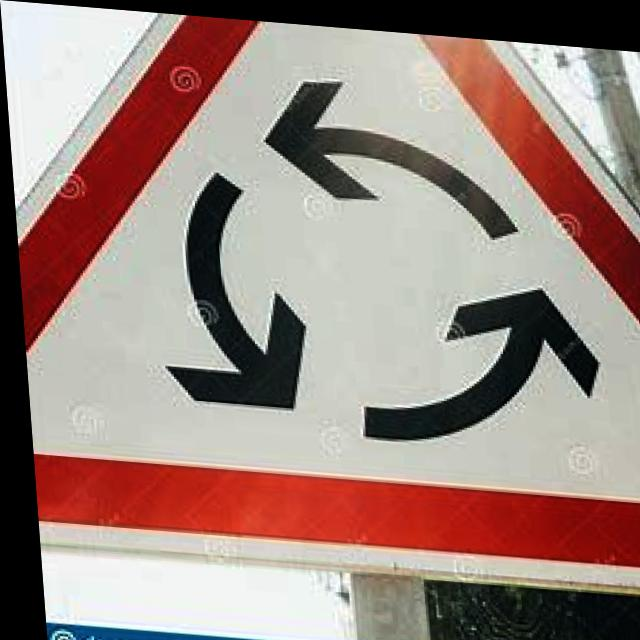ROUNDABOUT: (0, 0, 640, 594)
